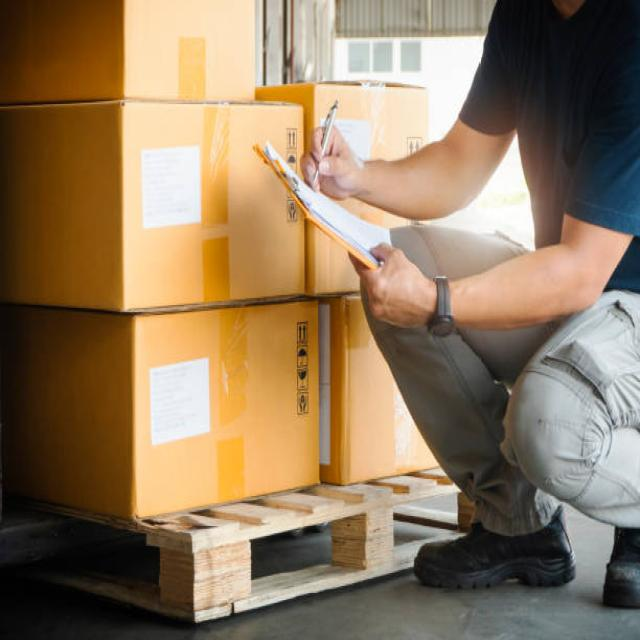Wooden-Pallets: (118, 489, 413, 629)
